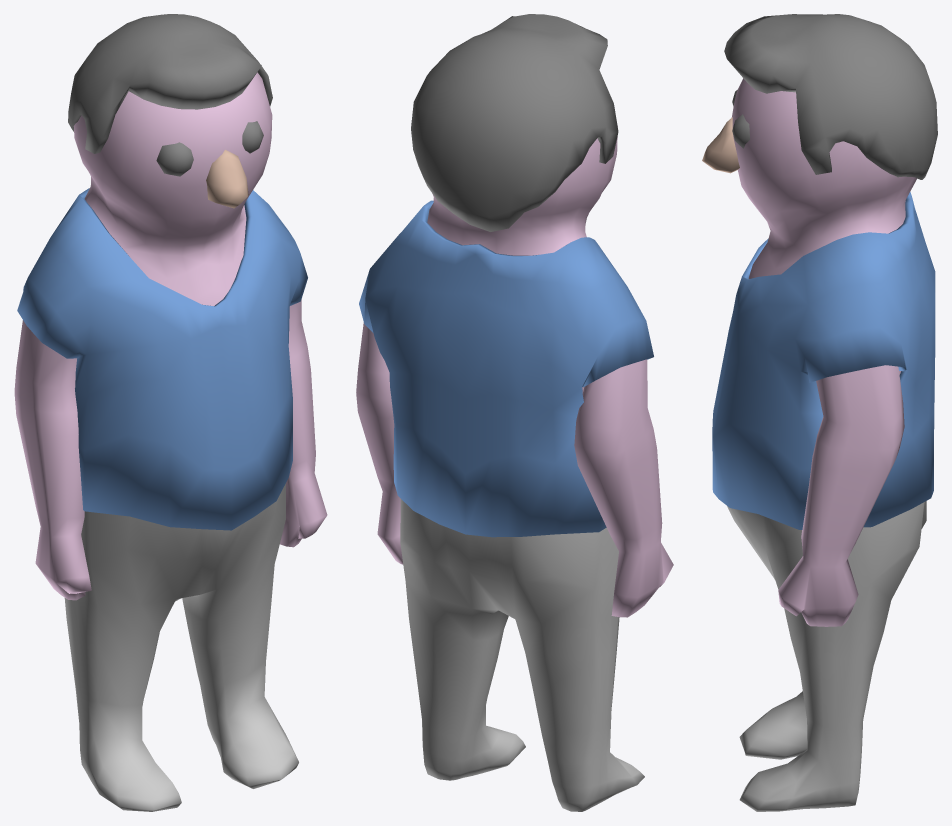
Rendered from Characters 01.fbx.
3 views of the same model, side by side, from view 1: azimuth 30°, elevation 25°; view 2: azimuth 150°, elevation 25°; view 3: azimuth 270°, elevation 25° (orthographic).
Visible parts, largest first — view 1: body, tshirt, hairsB, noseB, eye; view 2: body, tshirt, hairsB; view 3: body, tshirt, hairsB, noseB.
Boxes of the visible parts, x1=… form: body: x1=14, y1=72, x2=327, y2=811; tshirt: x1=17, y1=188, x2=307, y2=530; hairsB: x1=68, y1=14, x2=272, y2=153; noseB: x1=206, y1=149, x2=248, y2=208; eye: x1=156, y1=142, x2=193, y2=176; body: x1=356, y1=125, x2=673, y2=811; tshirt: x1=359, y1=200, x2=653, y2=537; hairsB: x1=411, y1=14, x2=618, y2=231; body: x1=727, y1=78, x2=926, y2=811; tshirt: x1=712, y1=192, x2=935, y2=529; hairsB: x1=724, y1=14, x2=937, y2=179; noseB: x1=702, y1=117, x2=739, y2=173.
Bounding box in the file's own units: 73.04 × 194 × 54.97.
